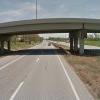Bridge: (5, 5, 97, 61)
